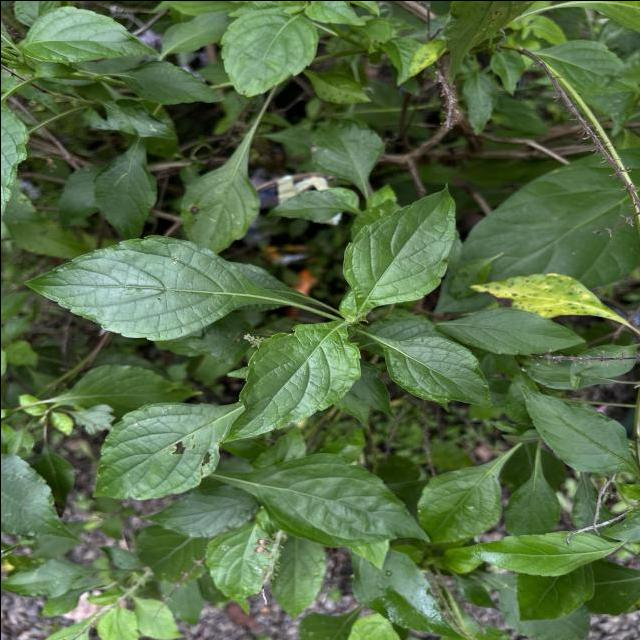Ocimum gratissimum: (18, 232, 282, 342), (238, 448, 433, 548), (220, 320, 364, 444), (337, 176, 459, 306), (85, 397, 235, 502), (516, 382, 636, 473), (178, 132, 262, 252), (218, 5, 320, 99), (19, 1, 160, 65), (381, 332, 493, 409), (448, 528, 618, 577), (434, 304, 588, 356), (90, 138, 160, 243)
